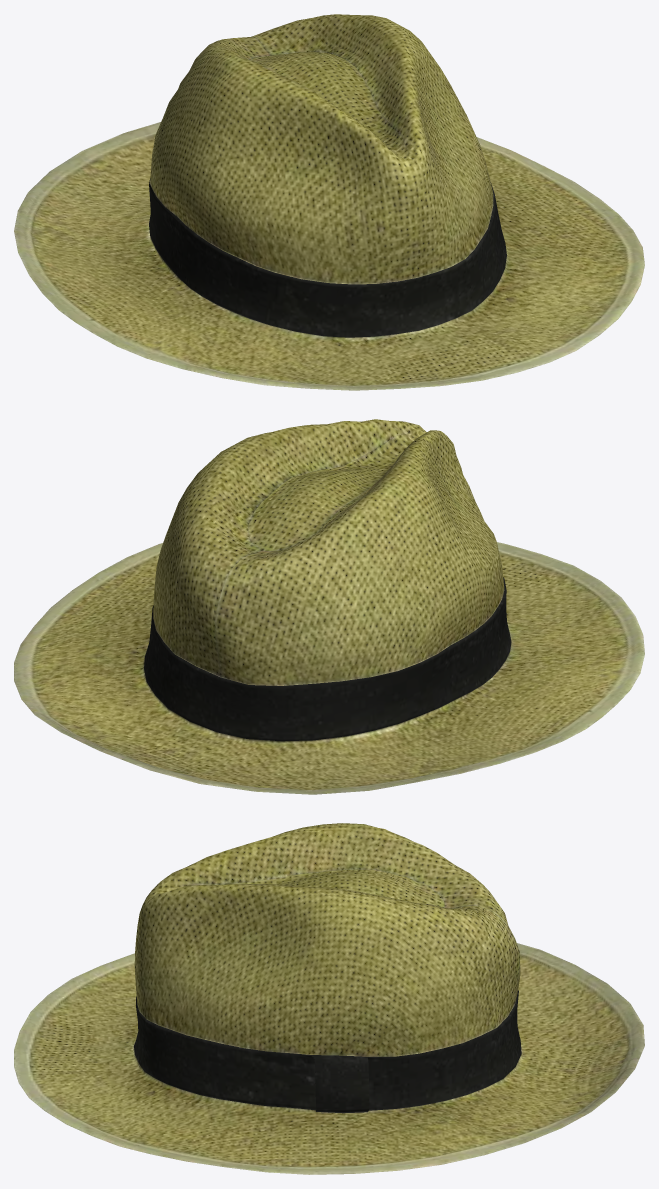
Rendered from wear-straw.glb.
The picture shows the model from 3 angles, top to bottom: view 1: azimuth 30°, elevation 25°; view 2: azimuth 150°, elevation 25°; view 3: azimuth 270°, elevation 25°; orthographic projection. The views are drawn at different scales.
Visible parts, largest first — view 1: scan-0; view 2: scan-0; view 3: scan-0.
Boxes of the visible parts, x1,y1,x2,y2 form: scan-0: [14, 14, 644, 390]; scan-0: [14, 419, 644, 794]; scan-0: [14, 823, 644, 1174].
Size of the model in its own units: 51.13 by 19.52 by 56.08.
Materials: 1 (1 with a texture image).
